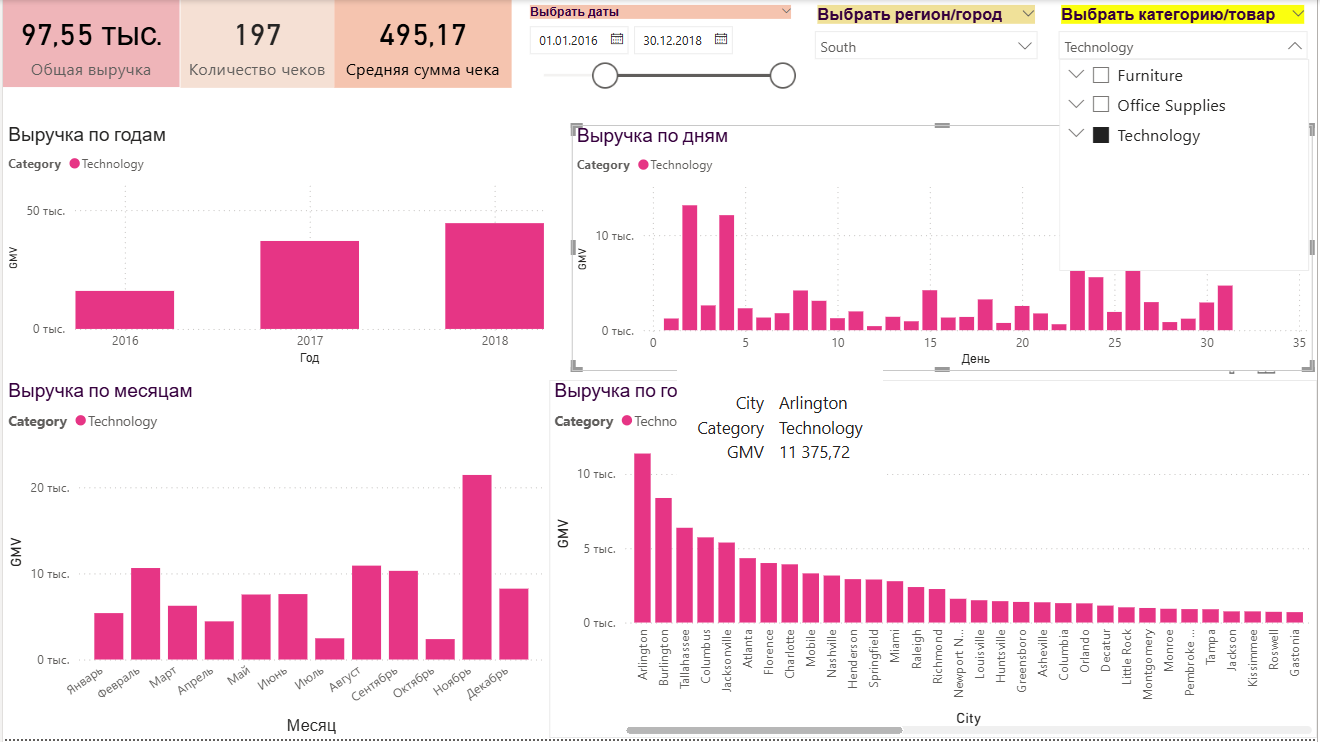

The page's visual inventory and layout, read from the dashboard file:
{"tool":"powerbi","page":{"name":"Страница 1","canvas":[1280,720],"ordinal":0},"visuals":[{"type":"card","fields":{"Values":["superstore.GMV"]},"box":[0,0,172.3,84.8],"z":1000},{"type":"card","fields":{"Values":["superstore.Orders Count"]},"box":[172.3,0,187.1,84.8],"z":2000},{"type":"card","fields":{"Values":["superstore.AOV"]},"box":[359.4,0,172.3,84.8],"z":3000},{"type":"barChart","title":"Выручка по месяцам","fields":{"Category":["superstore.Order Date.Изменение.Иерархия дат.Месяц"],"Y":["superstore.GMV"]},"box":[0,370.2,531.8,350],"z":4000},{"type":"clusteredBarChart","title":"Выручка по регионам","fields":{"Category":["superstore.Region"],"Y":["superstore.GMV"]},"box":[532,370,748,350],"z":6000},{"type":"clusteredBarChart","title":"Выручка по годам","fields":{"Category":["superstore.Order Date.Изменение.Иерархия дат.Год","superstore.Order Date.Изменение.Иерархия дат.Квартал","superstore.Order Date.Изменение.Иерархия дат.Месяц","superstore.Order Date.Изменение.Иерархия дат.День"],"Y":["superstore.GMV"]},"box":[0,120.1,532.1,240.1],"z":6001},{"type":"slicer","fields":{"Values":["superstore.Order Date"]},"box":[532.1,0,280.6,98.6],"z":6002},{"type":"slicer","fields":{"Values":["superstore.Region"]},"box":[812.6,0,204.7,98.6],"z":6003},{"type":"slicer","fields":{"Values":["superstore.Category"]},"box":[1017.4,0,262.9,98.6],"z":6004},{"type":"clusteredBarChart","title":"Выручка по категориям","fields":{"Category":["superstore.Category"],"Y":["superstore.GMV"]},"box":[532.1,130.2,748.2,240.1],"z":6005}]}

Visuals, with their boxes in screenshot pixels (x1, y1, x2, y2), scaled from the page's 1280x720 canvas onto the 1320x742 screenshot:
card - superstore.GMV: (left=0, top=0, right=178, bottom=87)
card - superstore.Orders Count: (left=178, top=0, right=371, bottom=87)
card - superstore.AOV: (left=371, top=0, right=548, bottom=87)
"Выручка по месяцам" barChart: (left=0, top=382, right=548, bottom=741)
"Выручка по регионам" clusteredBarChart: (left=549, top=381, right=1319, bottom=741)
"Выручка по годам" clusteredBarChart: (left=0, top=124, right=549, bottom=371)
slicer - superstore.Order Date: (left=549, top=0, right=838, bottom=102)
slicer - superstore.Region: (left=838, top=0, right=1049, bottom=102)
slicer - superstore.Category: (left=1049, top=0, right=1319, bottom=102)
"Выручка по категориям" clusteredBarChart: (left=549, top=134, right=1319, bottom=382)
